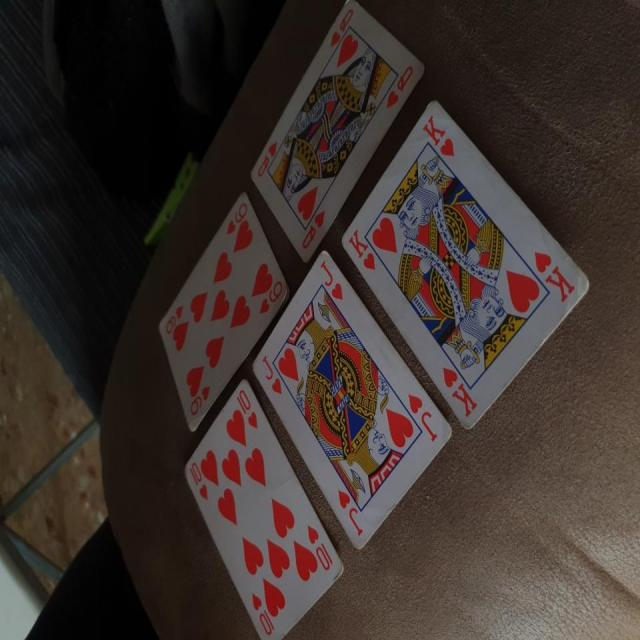10 Hearts: (170, 382, 352, 633)
9 Hearts: (142, 188, 295, 449)
J Hearts: (258, 245, 451, 562)
K Hearts: (344, 102, 599, 436)
Q Hearts: (249, 1, 426, 263)
